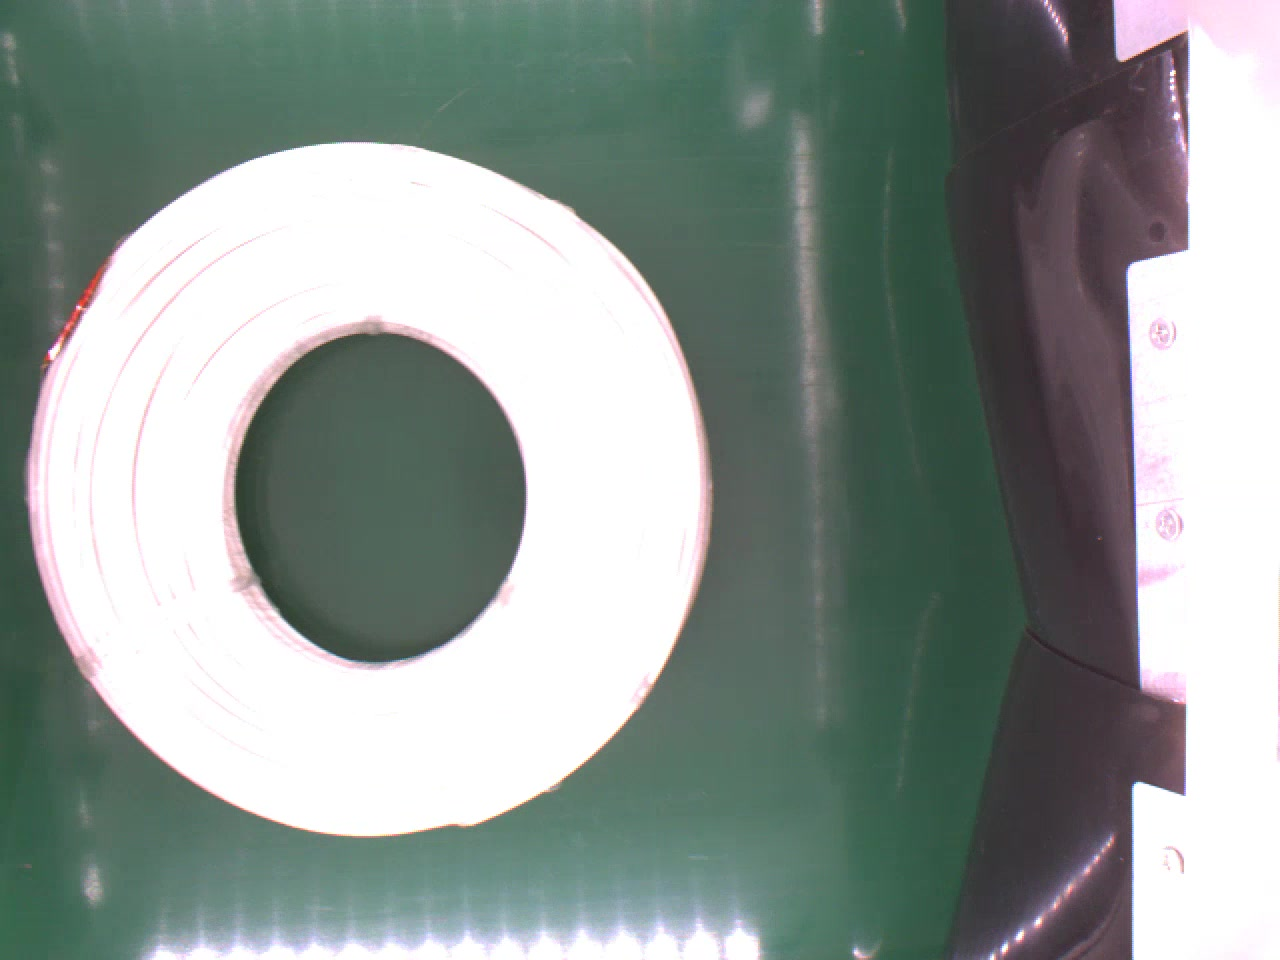white: (19, 127, 725, 850)
